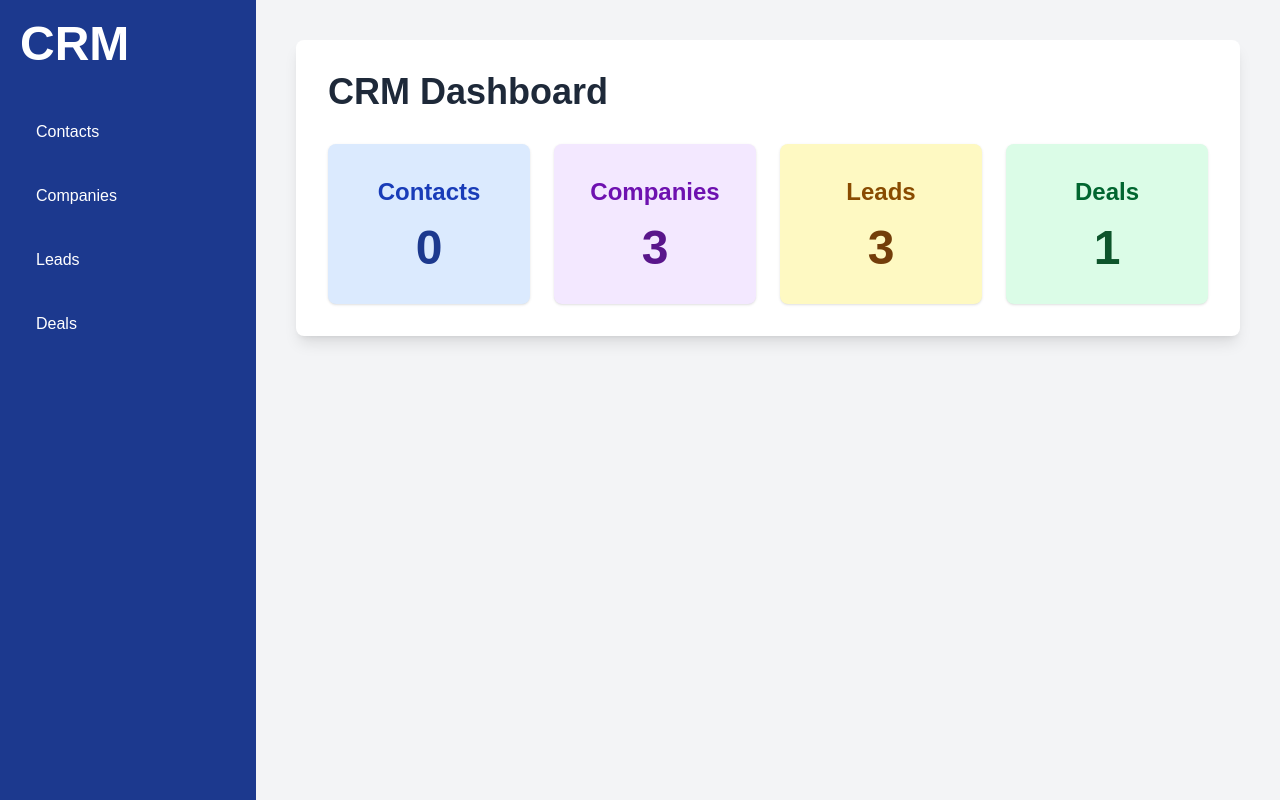
Test: Week 8 - Deal Management Automation Tests › TC_03: Create deal with pipeline stage
The image size is (1280, 800).
Click the button "Deals": [128, 324] box [20, 300, 236, 348]
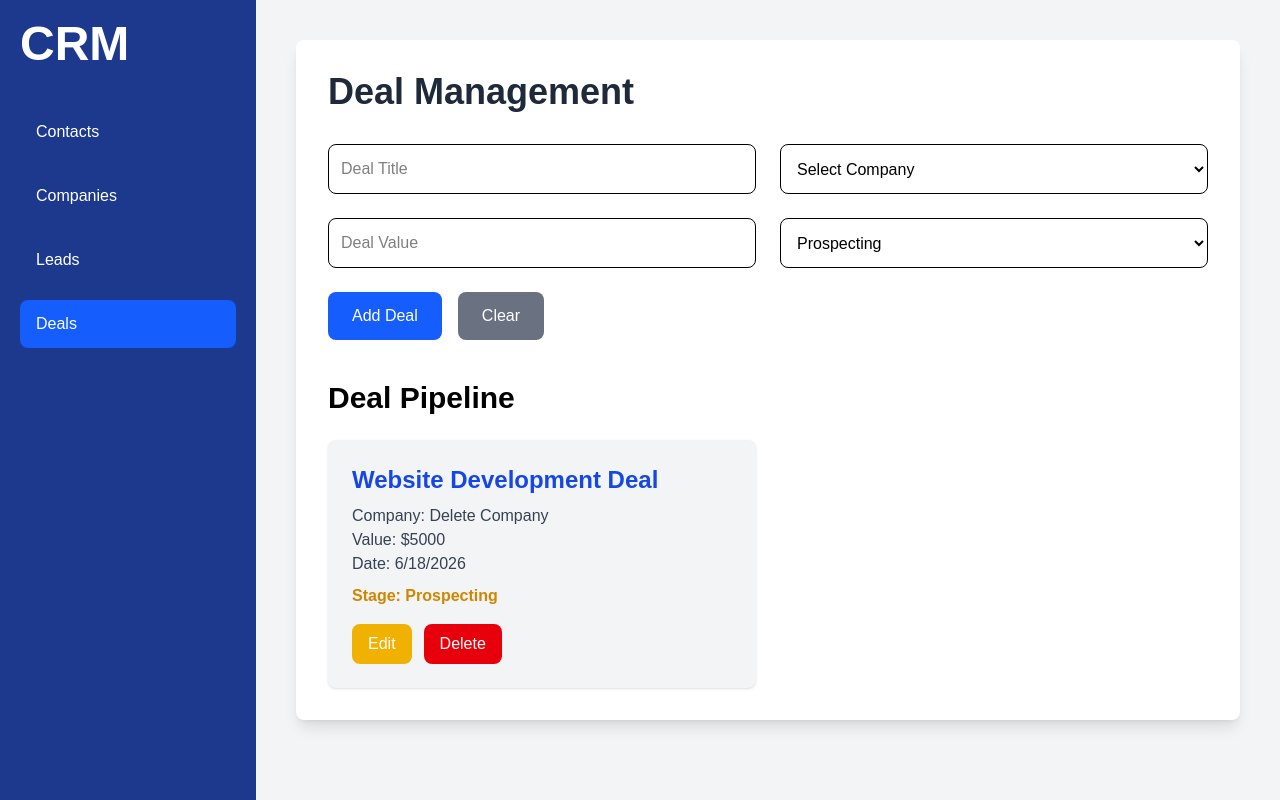
In the field with placeholder "Deal Title": [542, 169] box [328, 144, 756, 194], type "Pipeline Stage Test"
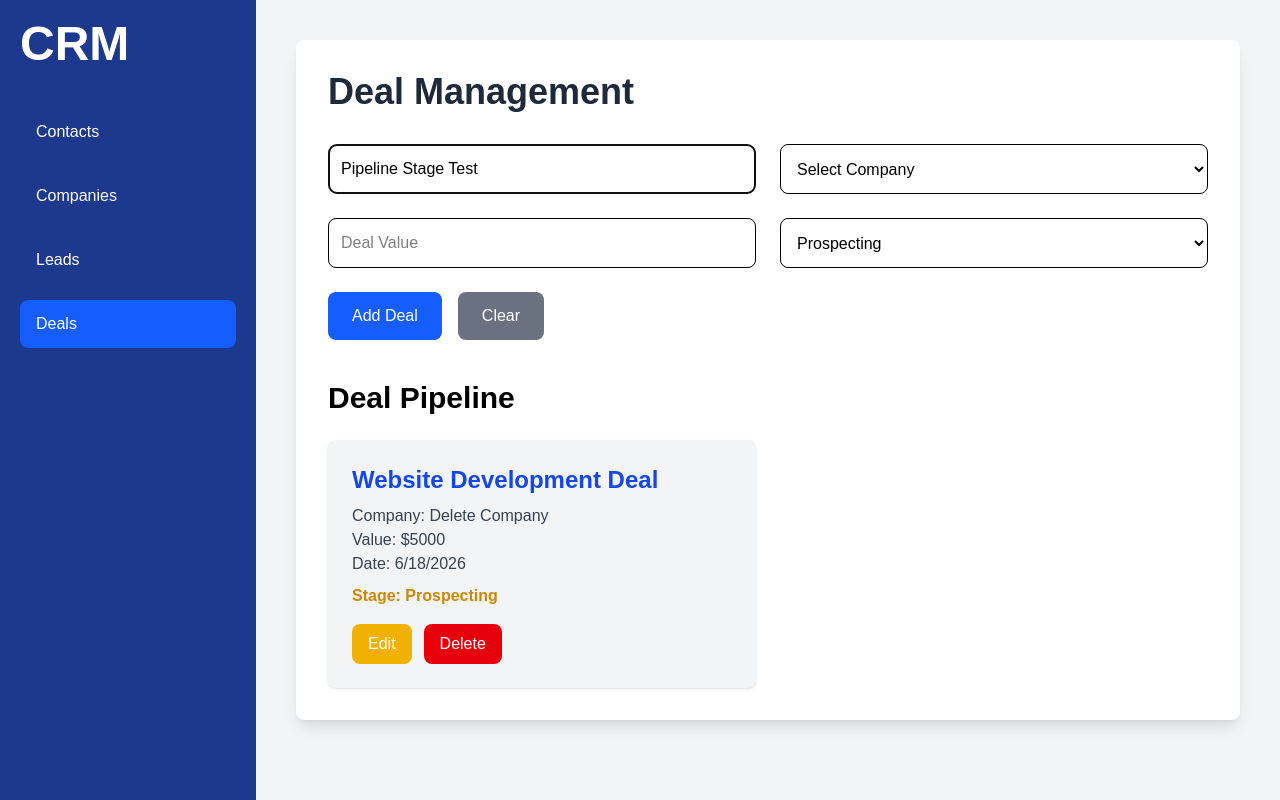
Select "1" in the 1st dropdown: [994, 169] box [780, 144, 1208, 194]
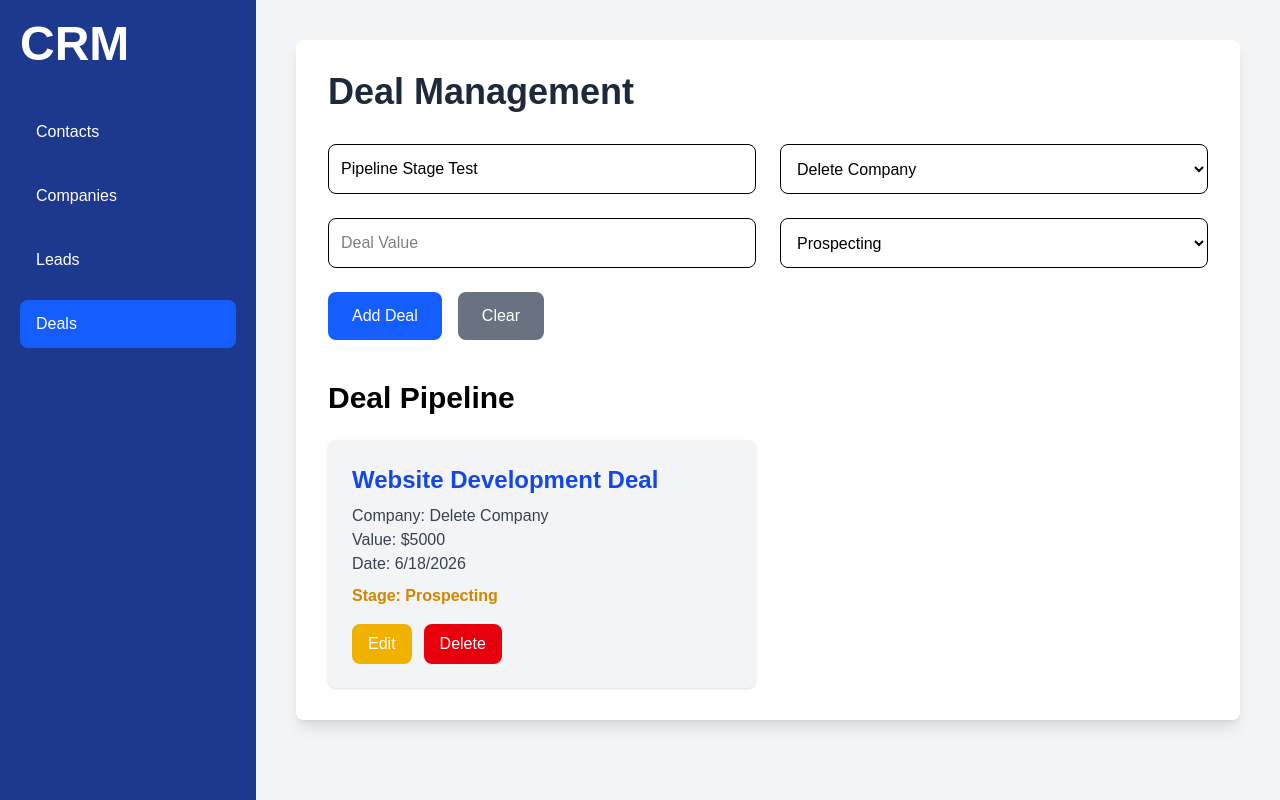
In the number field with placeholder "Deal Value": [542, 243] box [328, 218, 756, 268], type "4500"
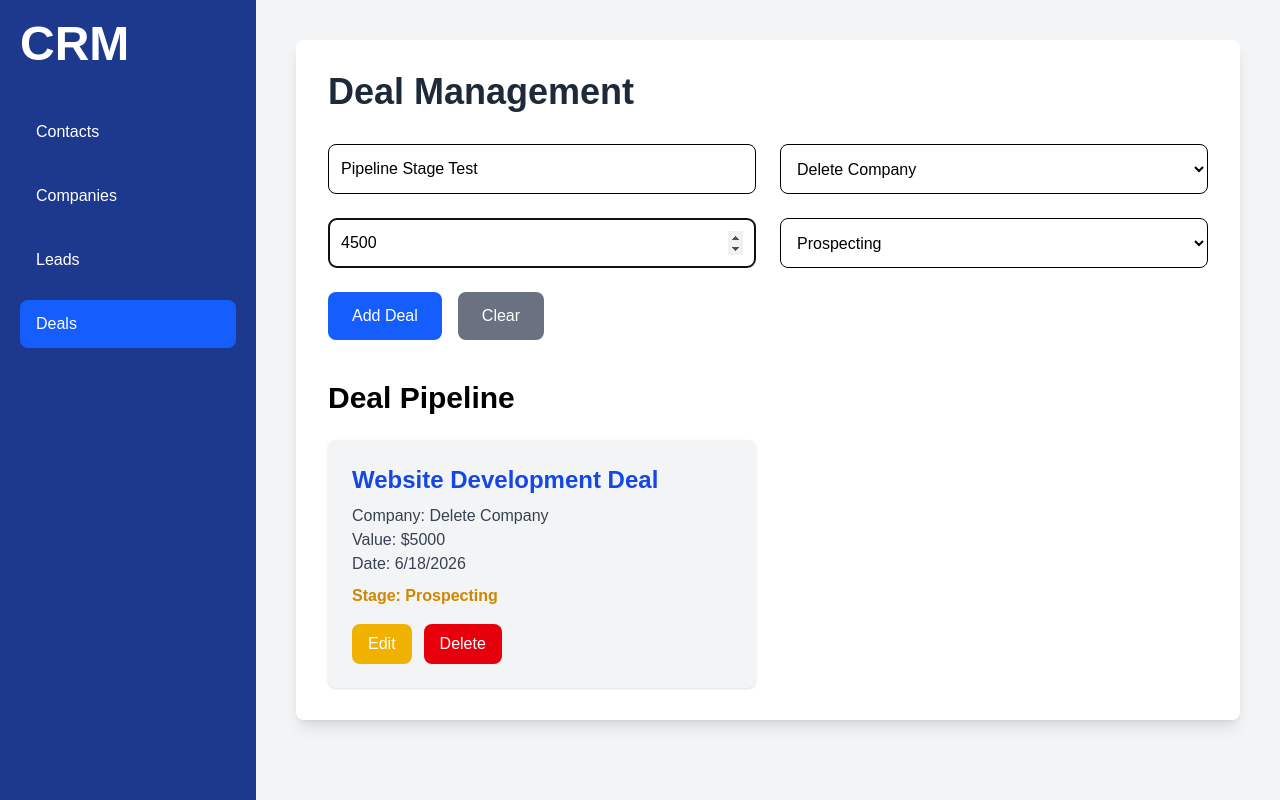
Select "Prospecting" in the 2nd dropdown: [994, 243] box [780, 218, 1208, 268]
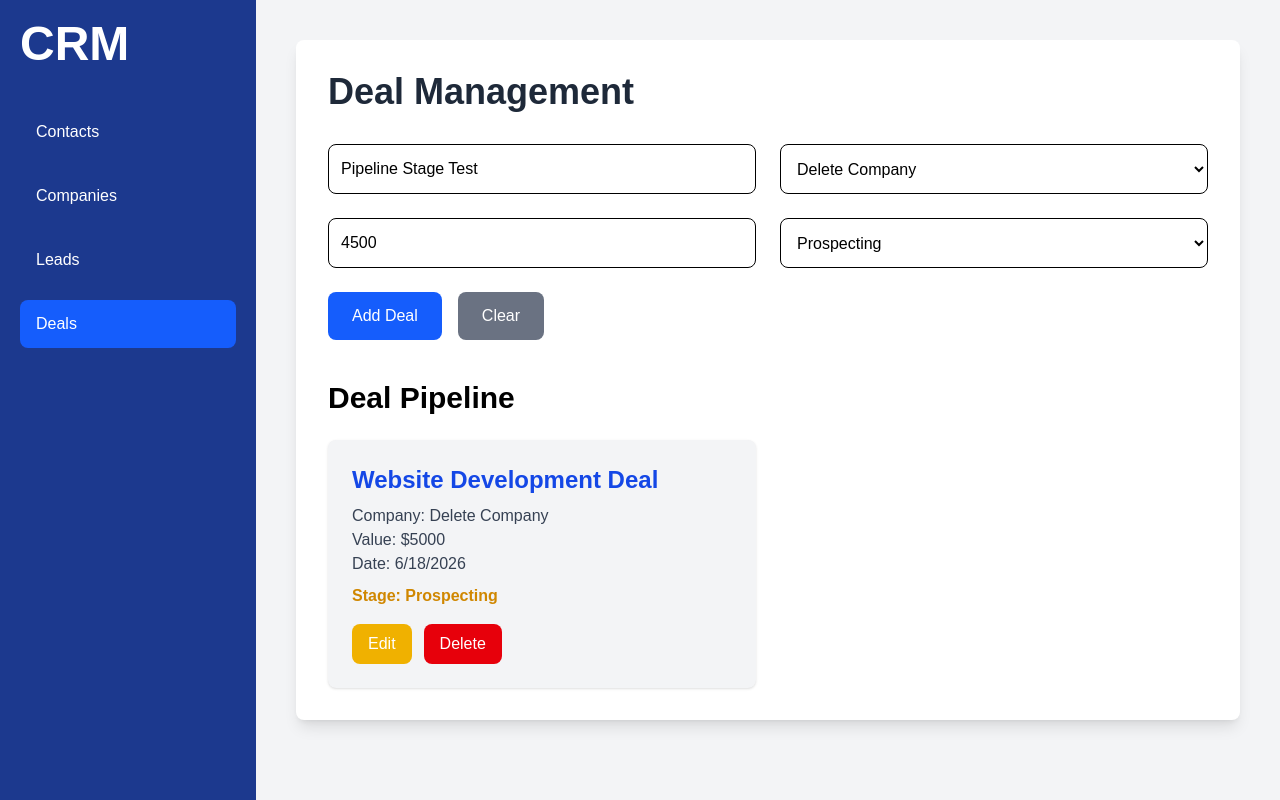
Click the button "Add Deal": [385, 316] box [328, 292, 442, 340]
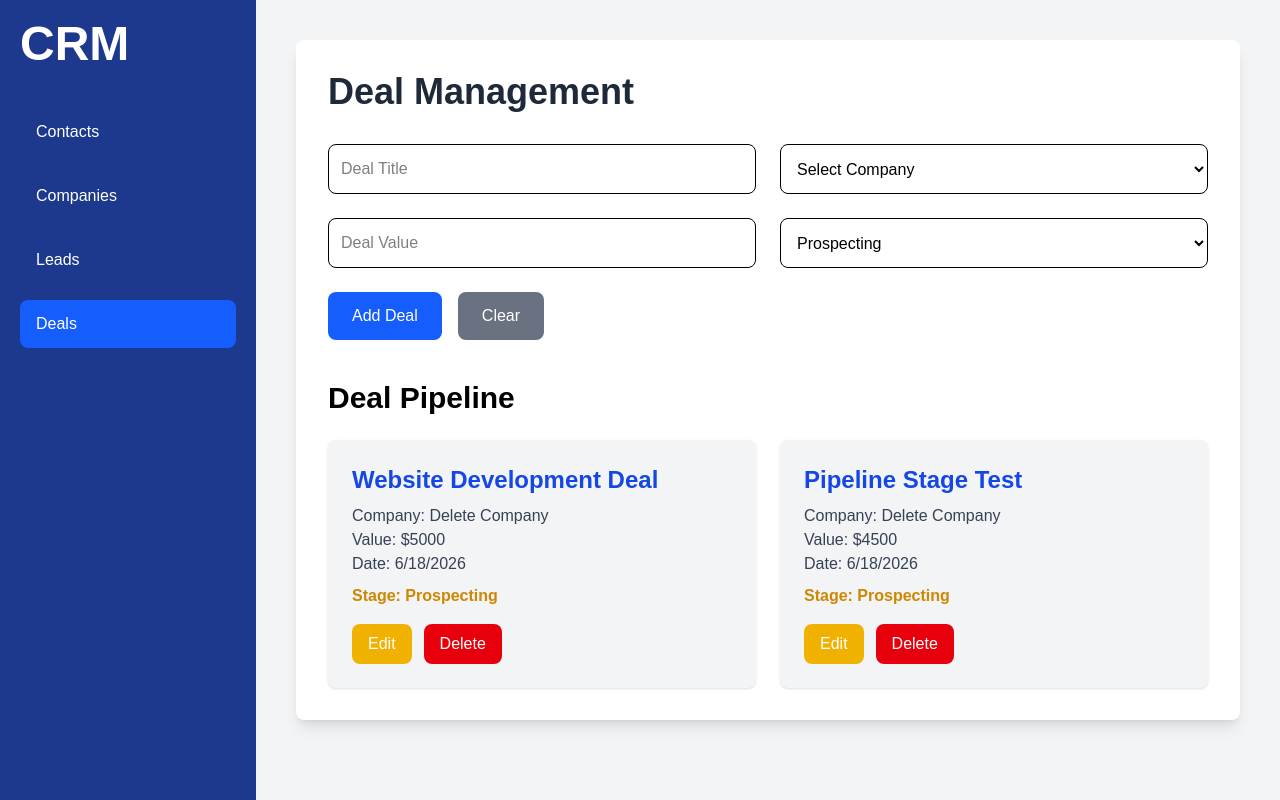
Result: the text "Stage: Prospecting" below "5000" is shown at [352, 587, 498, 604]
Result: the heading "Pipeline Stage Test" is shown at [804, 466, 1022, 493]
